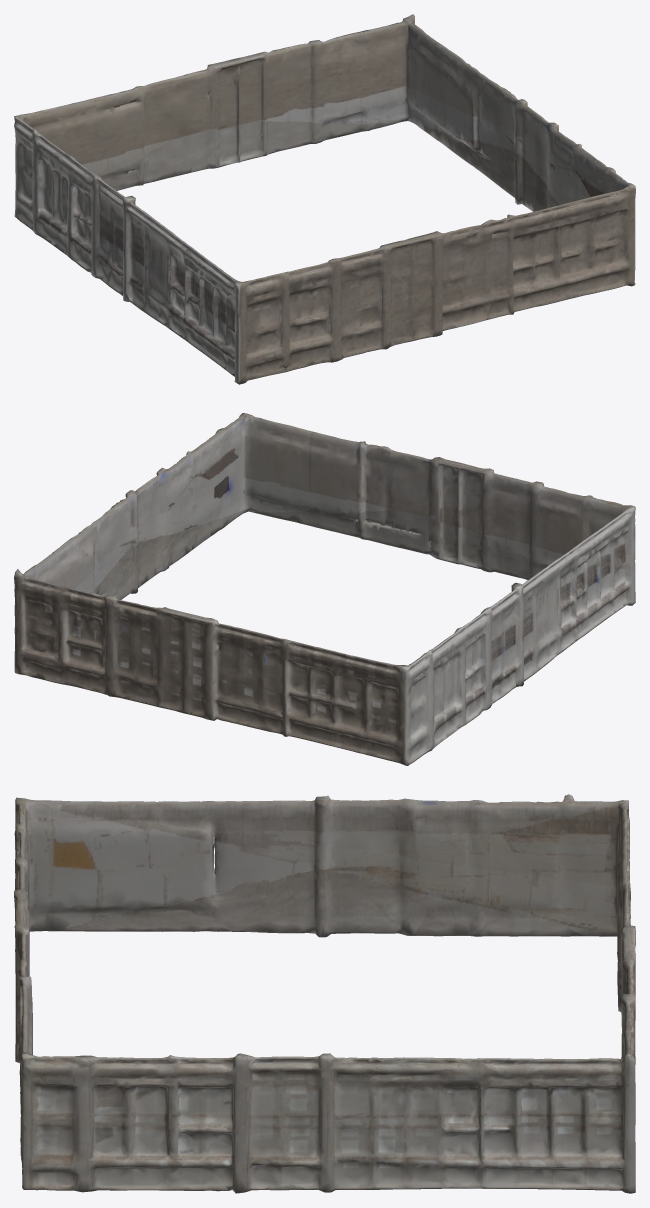
3 renders of one model, top to bottom at view 1: azimuth 30°, elevation 25°; view 2: azimuth 150°, elevation 25°; view 3: azimuth 270°, elevation 25°, orthographic. The views are drawn at different scales.
Parts seen in each view (by area): view 1: file1; view 2: file1; view 3: file1.
Boxes of the visible parts, x1,y1,x2,y2 form: file1: (14,14,635,384); file1: (14,413,635,765); file1: (14,794,635,1193).
Bounding box in the file's own units: 2 × 0.5018 × 1.99.
Materials: 1 (1 with a texture image).
